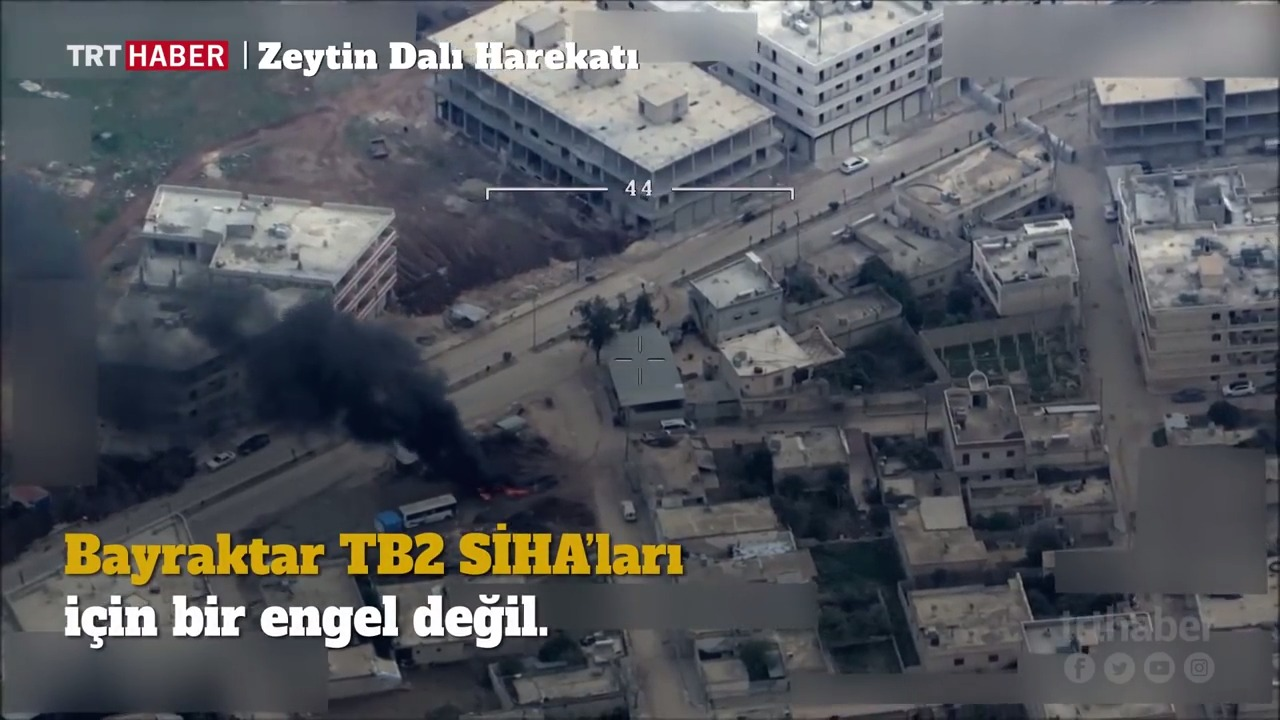arac: (834, 149, 873, 174)
